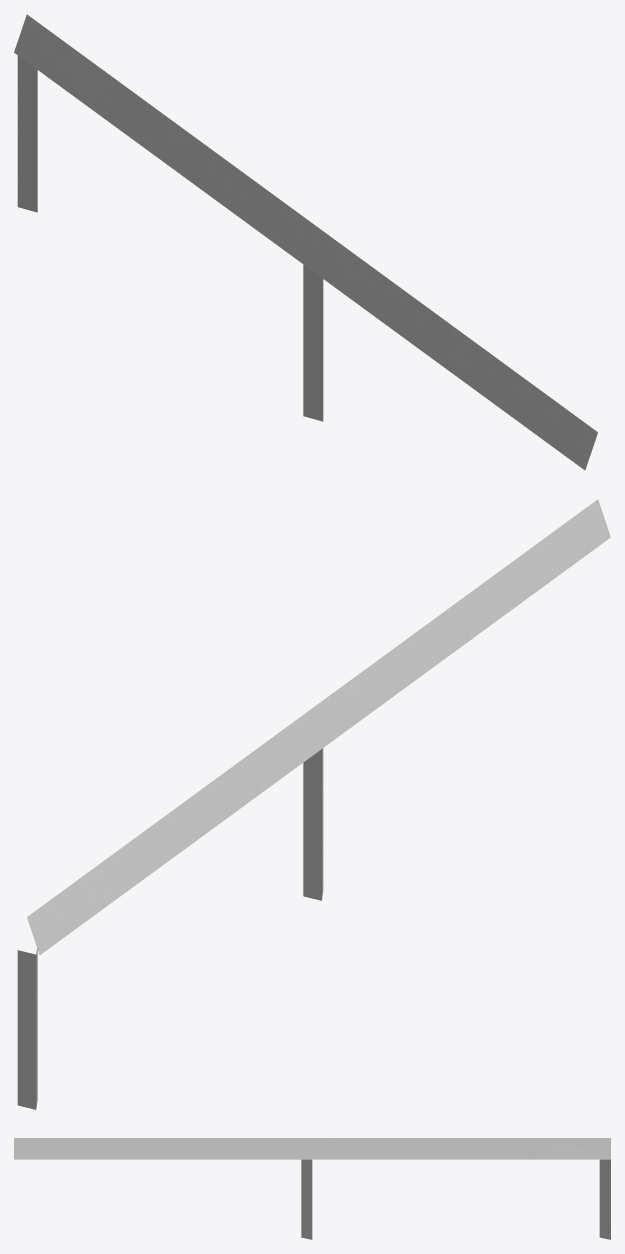
Rendered from fence-horse-rail-2s-cbj_LOD01.gltf.
The picture shows the model from 3 angles, top to bottom: view 1: azimuth 30°, elevation 25°; view 2: azimuth 150°, elevation 25°; view 3: azimuth 270°, elevation 25°; orthographic projection. The views are drawn at different scales.
Parts seen in each view (by area): view 1: horserail01; view 2: horserail01; view 3: horserail01.
Part boxes in pixels (box(x1,y1,x2,y2)): horserail01: box(14, 14, 597, 470); horserail01: box(17, 499, 610, 1109); horserail01: box(14, 1138, 610, 1239).
Size of what is drawn, in the model's own units: 0.26 by 1.84 by 10.
